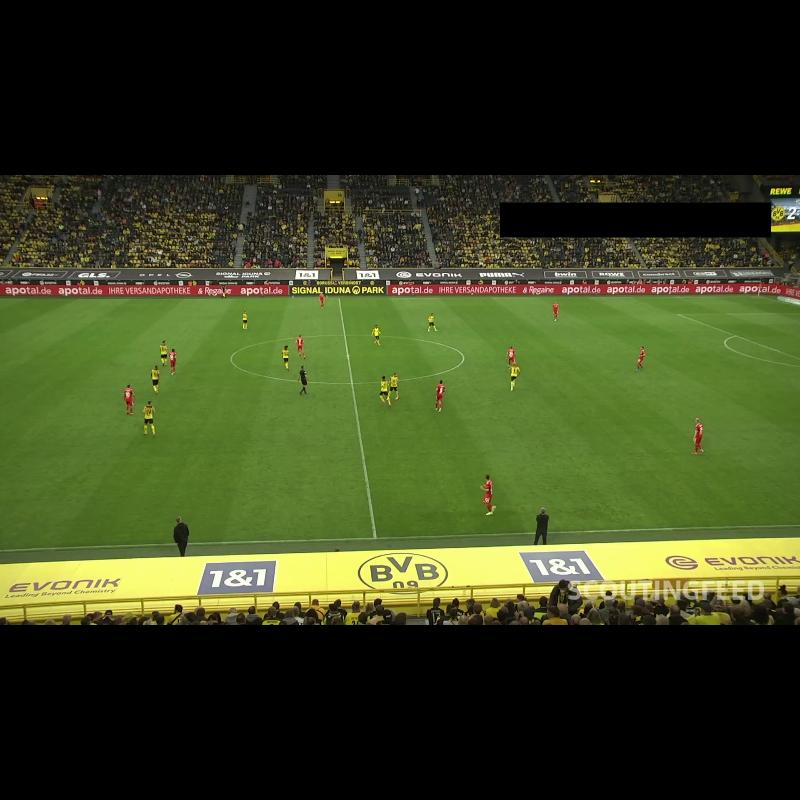cross_recipient_zone: (679, 312, 800, 359)
crossing_player_zone: (570, 296, 800, 315), (0, 298, 101, 321)
pitch: (0, 297, 800, 551)
